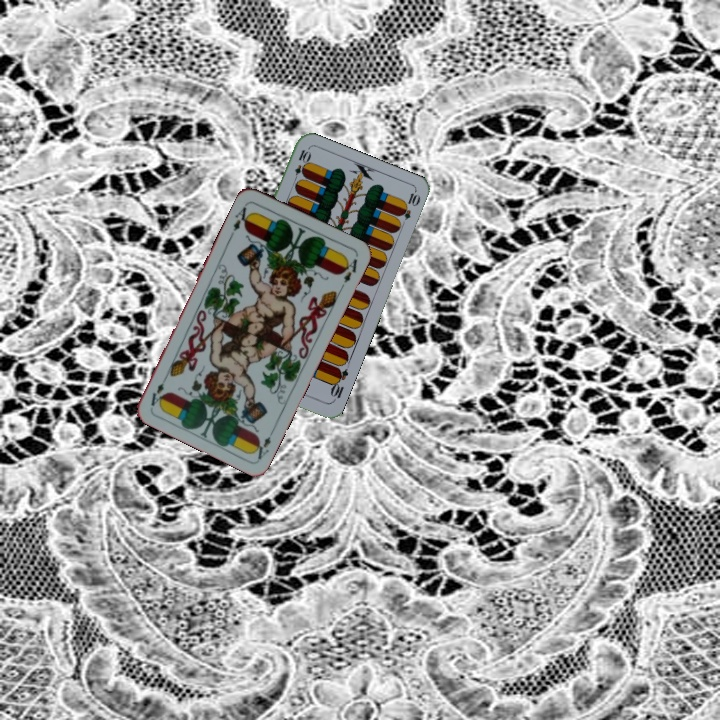E10: (326, 364, 351, 404), (289, 145, 312, 186)
EA: (249, 424, 278, 462), (227, 200, 254, 238)
